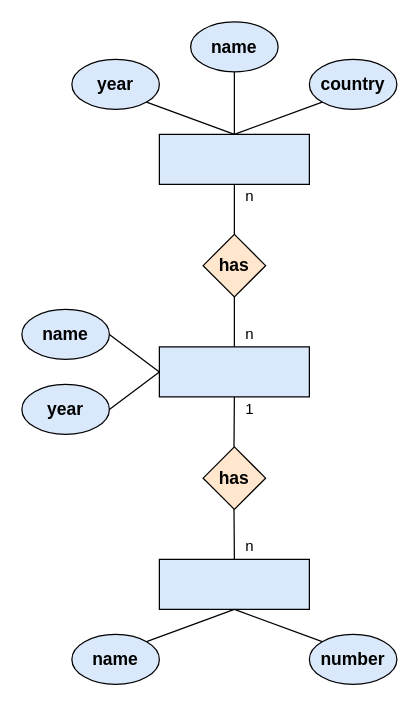
The diagram is 419 pixels wide and 706 high, and some of its shapes have lost their labels. Each missing label, with the centre of its shape:
"Album" goes at pixel 233 371.
"Artist" goes at pixel 233 158.
"Track" goes at pixel 233 583.
